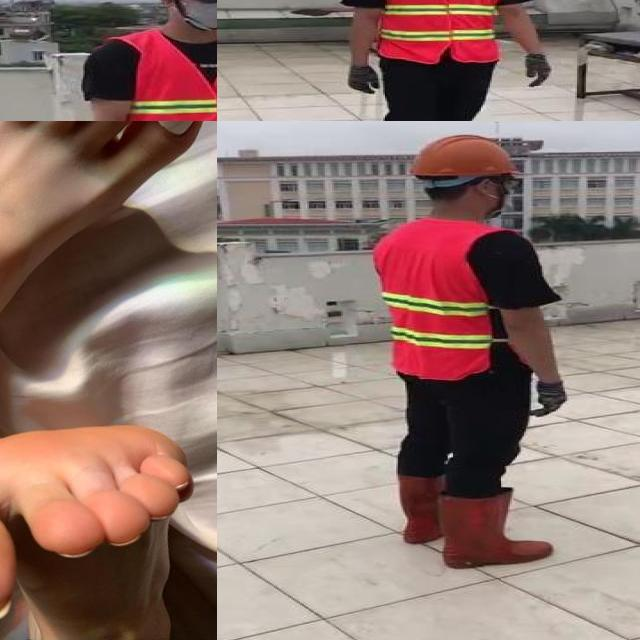Barefoots: (0, 121, 217, 377), (0, 394, 217, 640)
boots: (437, 489, 554, 568), (395, 470, 445, 543)
face_mask: (186, 0, 217, 28)
hand_glove: (532, 377, 570, 419), (344, 66, 383, 96), (522, 54, 554, 90)
head_helmet: (404, 128, 523, 184)
person: (354, 125, 573, 578), (338, 0, 560, 121), (75, 0, 217, 121)
vest: (369, 219, 494, 380), (123, 34, 217, 121), (379, 0, 504, 64)
